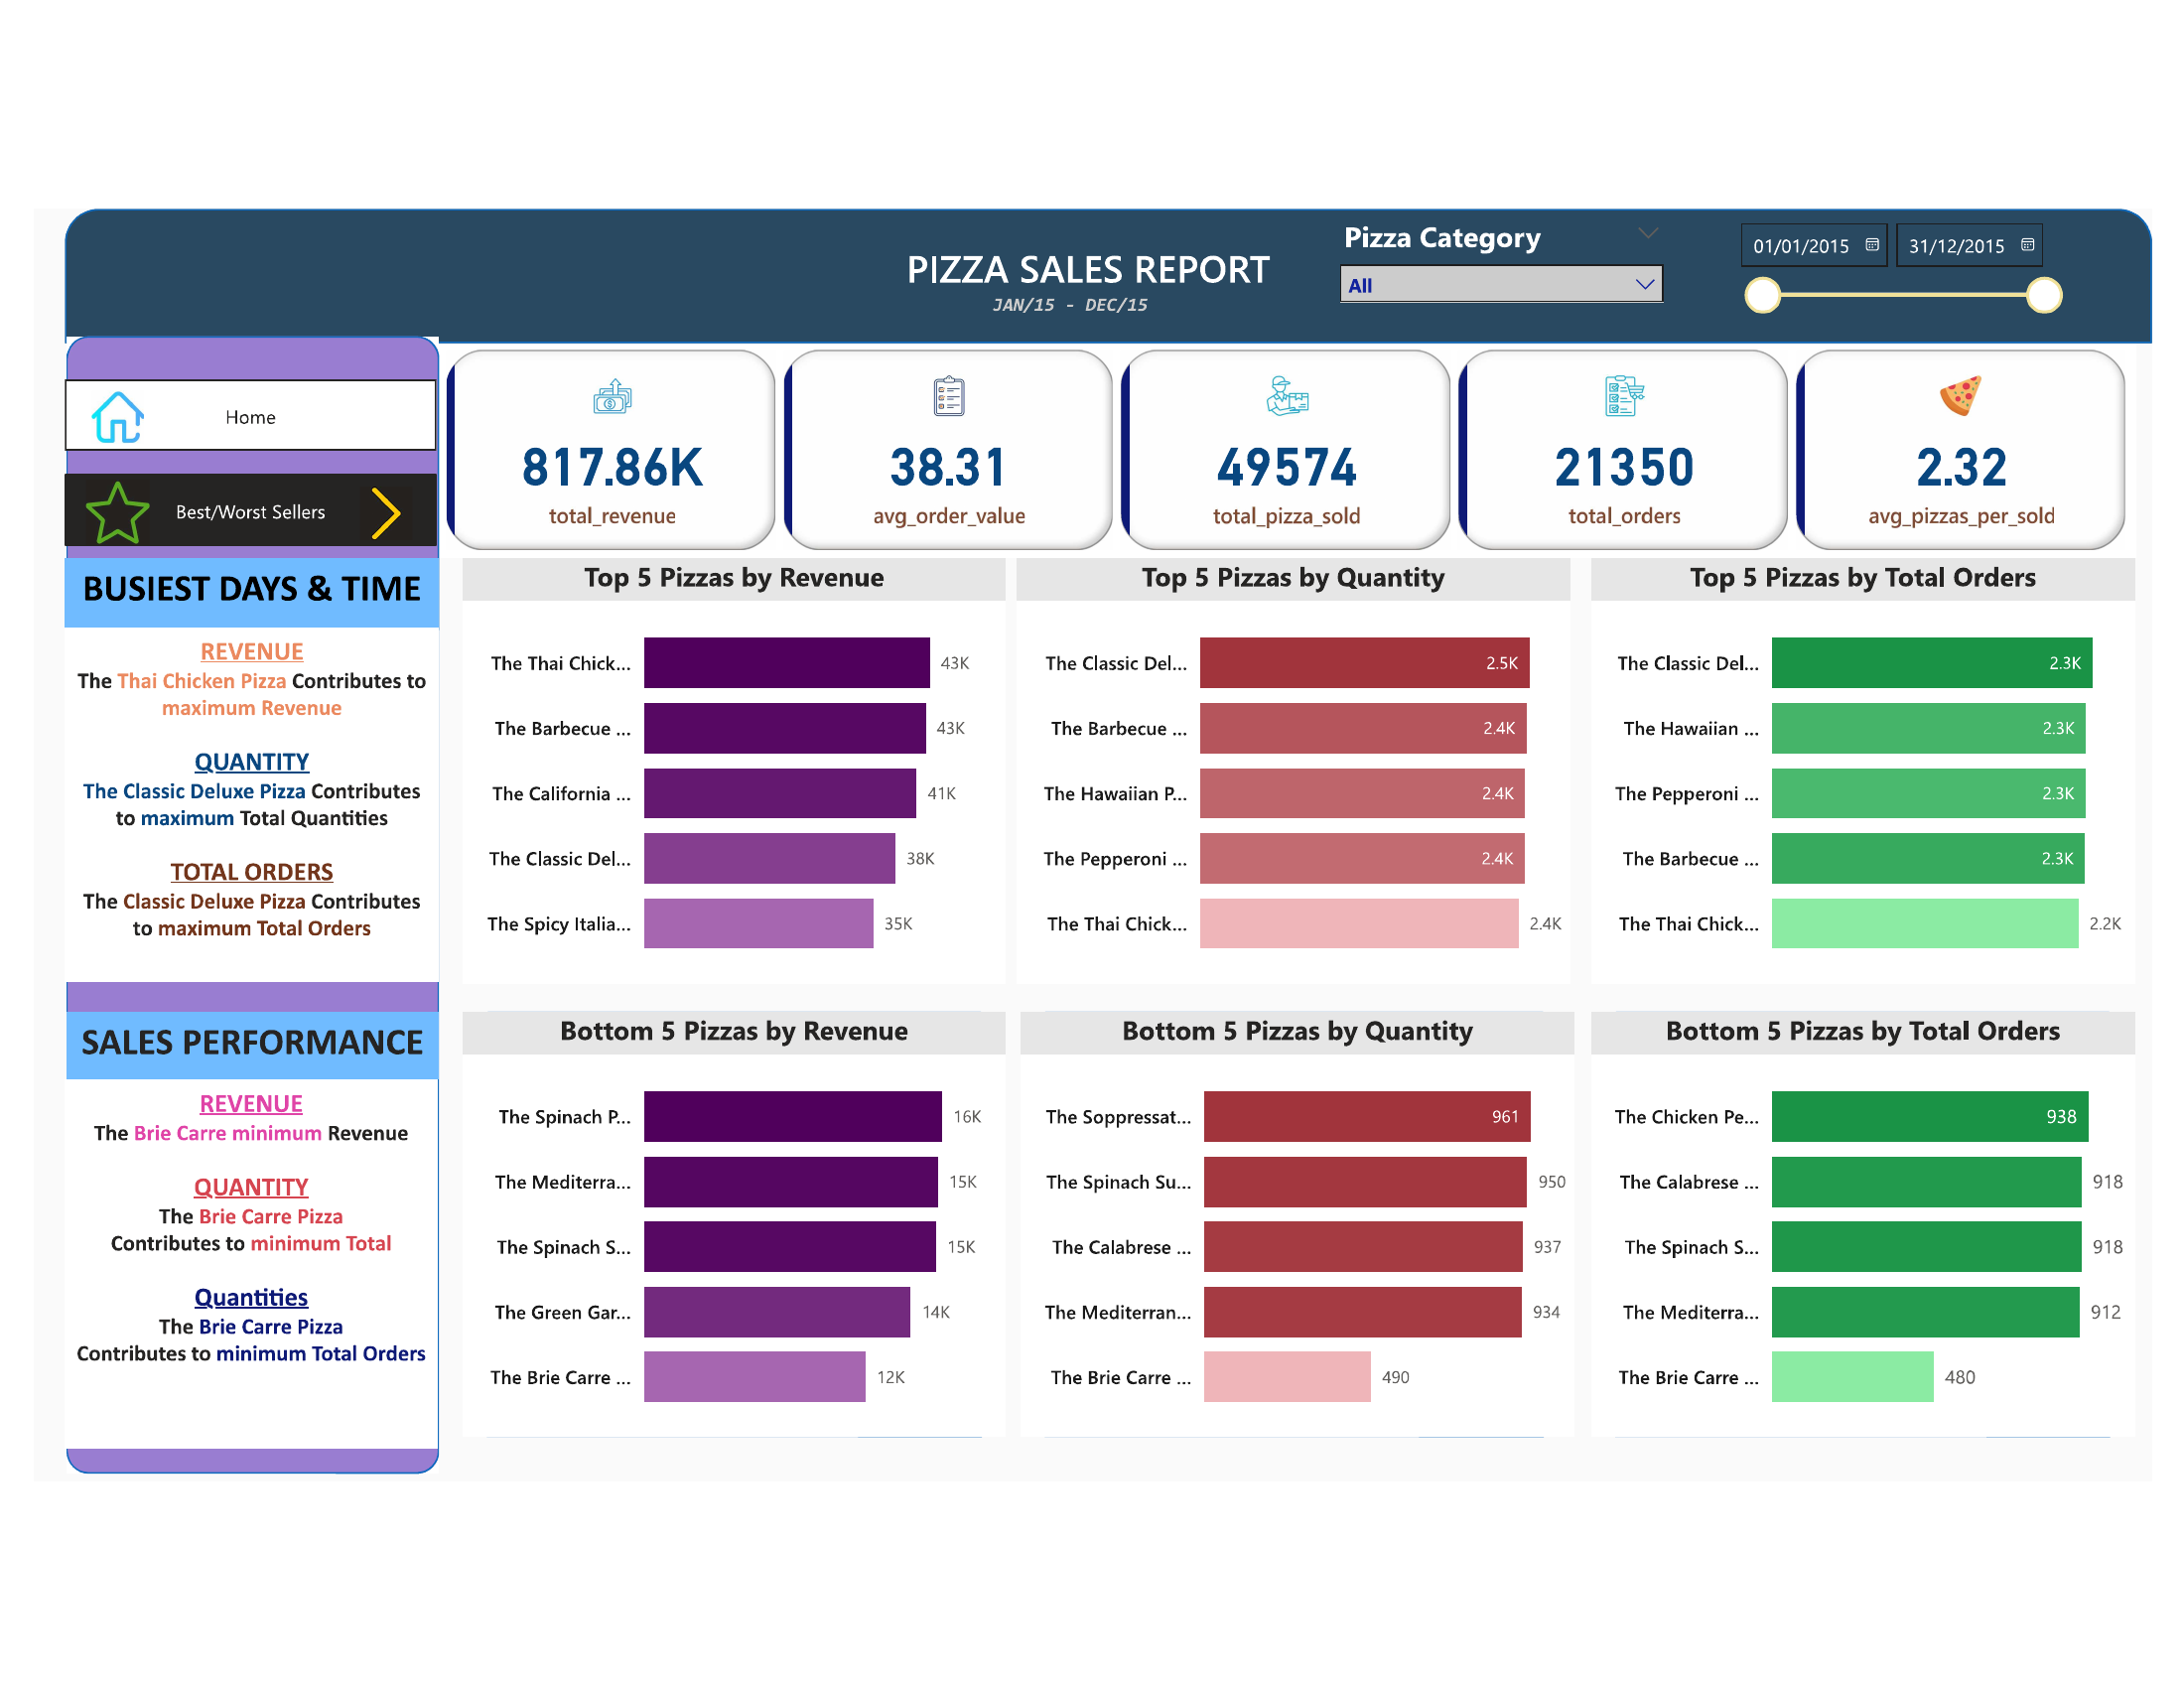

The dashboard page shown, as its layout file describes it:
{"tool":"powerbi","page":{"name":"Best/Worst Sellers","canvas":[1500,900],"ordinal":1},"visuals":[{"type":"cardVisual","fields":{"Data":["pizza_sales.total_revenue","pizza_sales.avg_order_value","pizza_sales.total_pizza_sold","pizza_sales.total_orders","pizza_sales.avg_pizzas_per_sold"]},"box":[287.1,95.2,1201.6,151.6],"z":0},{"type":"shape","box":[21.8,0,1478.2,94.5],"z":1000},{"type":"textbox","box":[612.7,18.3,277.5,49.3],"z":2000},{"type":"textbox","box":[674,53.2,141.6,41.6],"z":3000},{"type":"shape","box":[23.4,89.6,263.6,805.2],"z":4000},{"type":"textbox","box":[22.1,246.8,264.9,49.4],"z":5000},{"type":"textbox","box":[22.1,296.1,264.9,250.6],"z":6000},{"type":"textbox","box":[22.1,615.6,263.6,261],"z":7000},{"type":"textbox","box":[23.4,567.5,263.6,48.1],"z":8000},{"type":"slicer","fields":{"Values":["pizza_sales.pizza_category"]},"box":[914.5,0,249.1,89.1],"z":9000},{"type":"slicer","fields":{"Values":["pizza_sales.order_date"]},"box":[1196.1,0,249.4,89.6],"z":10000},{"type":"shape","box":[303.9,246.8,384.4,301.3],"z":11000},{"type":"shape","box":[1102.6,246.8,385.7,301.3],"z":12000},{"type":"shape","box":[698.7,246.8,389.6,301.3],"z":13000},{"type":"shape","box":[303.9,567.5,384.4,301.3],"z":14000},{"type":"shape","box":[698.7,567.5,387,301.3],"z":15000},{"type":"shape","box":[1102.6,567.5,384.4,301.3],"z":16000},{"type":"barChart","title":"Top 5 Pizzas by Revenue","fields":{"Category":["pizza_sales.pizza_name"],"Y":["pizza_sales.total_revenue"]},"box":[303.9,246.8,384.4,301.3],"z":17000},{"type":"barChart","title":"Bottom 5 Pizzas by Revenue","fields":{"Category":["pizza_sales.pizza_name"],"Y":["pizza_sales.total_revenue"]},"box":[303.9,567.5,384.4,301.3],"z":18000},{"type":"barChart","title":"Top 5 Pizzas by Quantity","fields":{"Category":["pizza_sales.pizza_name"],"Y":["pizza_sales.total_pizza_sold"]},"box":[696.1,246.8,392.2,301.3],"z":19000},{"type":"barChart","title":"Bottom 5 Pizzas by Quantity","fields":{"Category":["pizza_sales.pizza_name"],"Y":["pizza_sales.total_pizza_sold"]},"box":[698.7,567.5,392.2,301.3],"z":20000},{"type":"barChart","title":"Top 5 Pizzas by Total Orders","fields":{"Category":["pizza_sales.pizza_name"],"Y":["pizza_sales.total_orders"]},"box":[1102.6,246.8,385.7,301.3],"z":21000},{"type":"barChart","title":"Bottom 5 Pizzas by Total Orders","fields":{"Category":["pizza_sales.pizza_name"],"Y":["pizza_sales.total_orders"]},"box":[1102.6,567.5,385.7,301.3],"z":22000},{"type":"pageNavigator","box":[22.1,188.3,263.6,50.6],"z":23000},{"type":"pageNavigator","box":[22.1,120.8,263.6,50.6],"z":24000},{"type":"image","box":[226,185.7,46.8,58.4],"z":25000},{"type":"image","box":[36.4,116.9,46.8,59.7],"z":26000},{"type":"image","box":[32.5,184.4,54.5,59.7],"z":27000}]}

Visuals, with their boxes on the page's 1500x900 design canvas (x1, y1, x2, y2). These are canvas units, not pixel positions in the 2184x1688 screenshot, which may show the page scaled, cropped or inside an application window:
cardVisual - pizza_sales.total_revenue x pizza_sales.avg_order_value: 287/95/1489/247
shape: 22/0/1500/94
textbox: 613/18/890/68
textbox: 674/53/816/95
shape: 23/90/287/895
textbox: 22/247/287/296
textbox: 22/296/287/547
textbox: 22/616/286/877
textbox: 23/568/287/616
slicer - pizza_sales.pizza_category: 914/0/1164/89
slicer - pizza_sales.order_date: 1196/0/1446/90
shape: 304/247/688/548
shape: 1103/247/1488/548
shape: 699/247/1088/548
shape: 304/568/688/869
shape: 699/568/1086/869
shape: 1103/568/1487/869
"Top 5 Pizzas by Revenue" barChart: 304/247/688/548
"Bottom 5 Pizzas by Revenue" barChart: 304/568/688/869
"Top 5 Pizzas by Quantity" barChart: 696/247/1088/548
"Bottom 5 Pizzas by Quantity" barChart: 699/568/1091/869
"Top 5 Pizzas by Total Orders" barChart: 1103/247/1488/548
"Bottom 5 Pizzas by Total Orders" barChart: 1103/568/1488/869
pageNavigator: 22/188/286/239
pageNavigator: 22/121/286/171
image: 226/186/273/244
image: 36/117/83/177
image: 32/184/87/244
